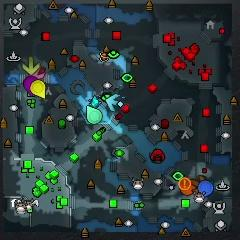Other: (178, 178, 192, 191)
p1: (199, 180, 214, 196)
p2: (86, 105, 102, 125)
p3: (23, 76, 38, 95)
p4: (30, 80, 45, 99)
p5: (180, 184, 195, 196)
x1: (32, 70, 46, 80)
x2: (22, 56, 40, 75)
x3: (105, 93, 123, 112)
x5: (190, 175, 206, 194)
